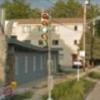traffic lights: (41, 13, 49, 48)
